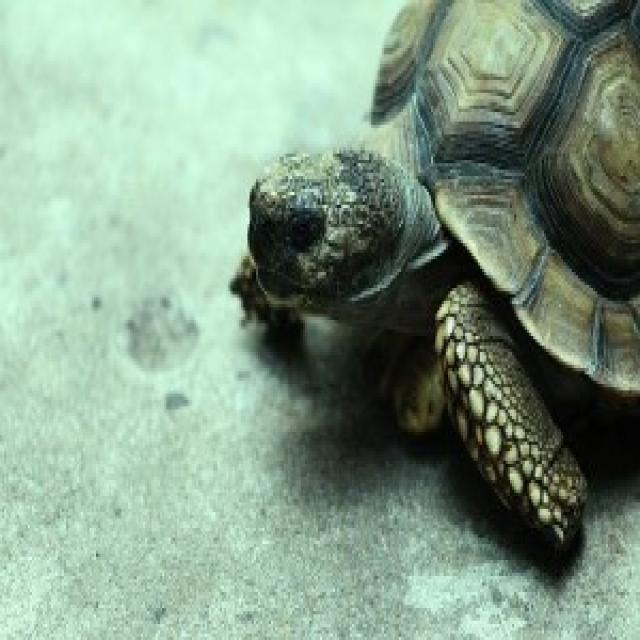Sea turtle: (203, 0, 637, 537)
